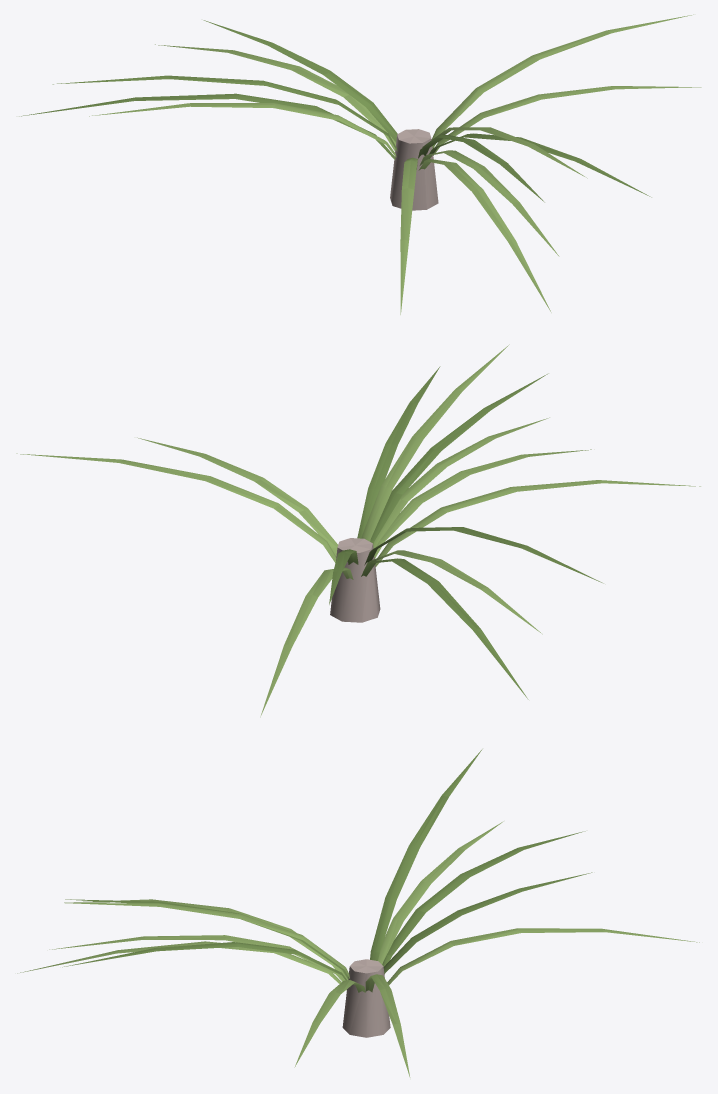
The model's file is crop-lemongrass-flowering.glb.
The picture shows the model from 3 angles, top to bottom: view 1: azimuth 30°, elevation 25°; view 2: azimuth 150°, elevation 25°; view 3: azimuth 270°, elevation 25°; orthographic projection. The views are drawn at different scales.
Parts seen in each view (by area): view 1: crop-lemongrass-flowering-kit; view 2: crop-lemongrass-flowering-kit; view 3: crop-lemongrass-flowering-kit.
Part boxes in pixels (<box>): crop-lemongrass-flowering-kit: <box>19,14,701,314</box>; crop-lemongrass-flowering-kit: <box>16,344,700,717</box>; crop-lemongrass-flowering-kit: <box>17,749,699,1077</box>.
Size of the model in its own units: 2.38 by 0.5427 by 2.44.
